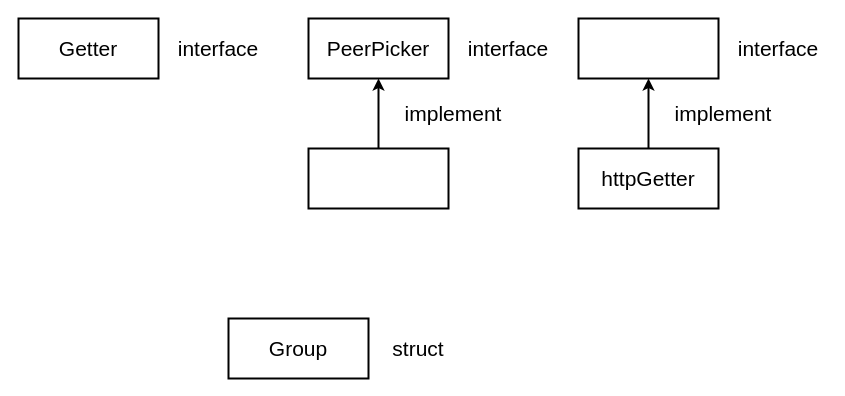
Some shapes in this 845 by 396 pixel diagram are drawn without their labels. The shapes that lost their labels are listed below. From the top down, each one's centre as x and y in pixels, then its label:
(x=648, y=48): PeerGetter
(x=378, y=178): httpPool
